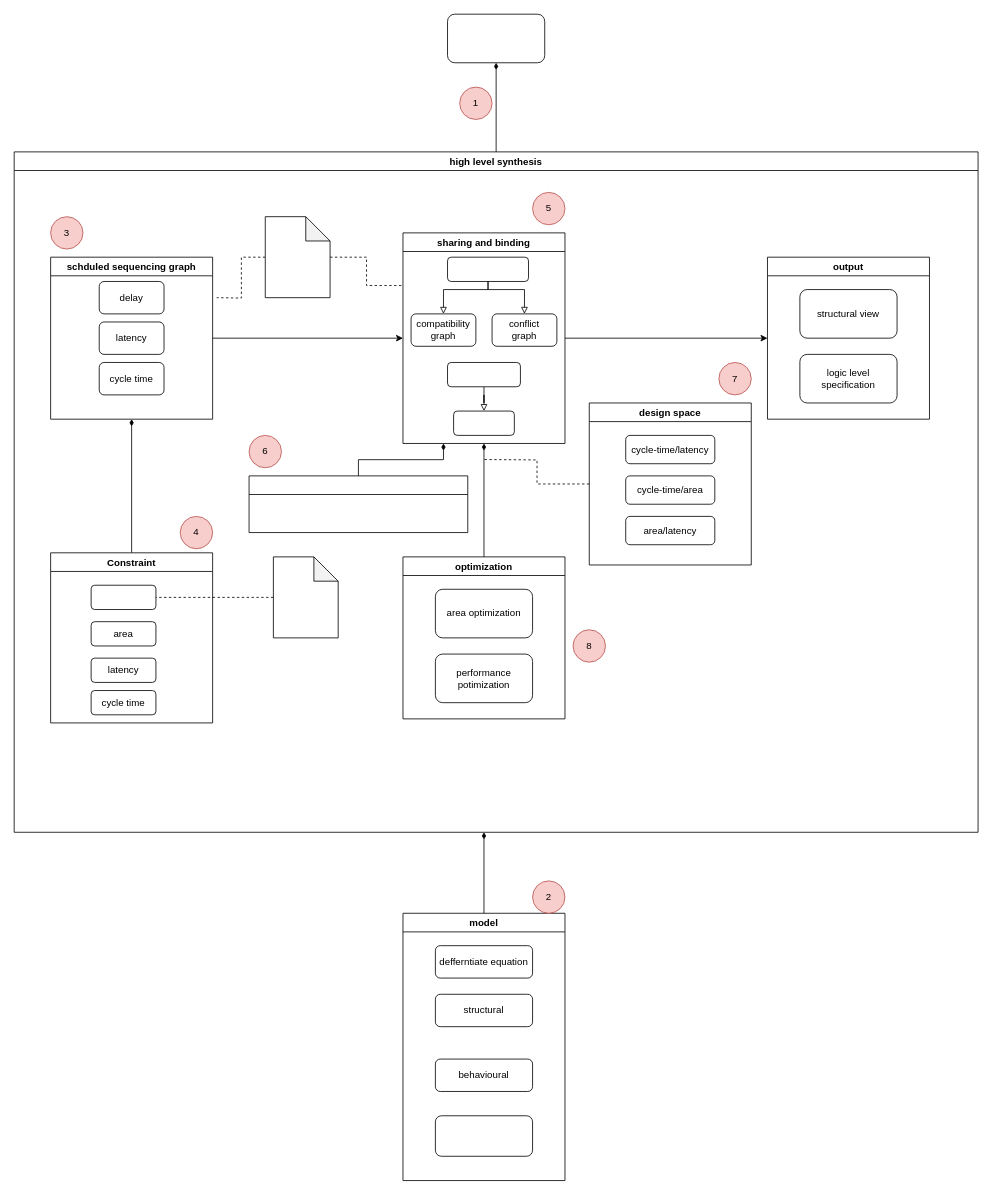
Image size: 992x1195. Some labels were removed from this diagram. Here are the shapes that lost their labels. From the top down, the centre of each, then its label:
[496,38]: hardware modelling for general circuit
[297,257]: hierarchical
[488,268]: sharing method
[483,374]: binding method
[483,422]: ILP model
[358,504]: area and performance estimation
[123,597]: resource
[305,597]: functional
[484,1135]: scheduled sequencing graph
